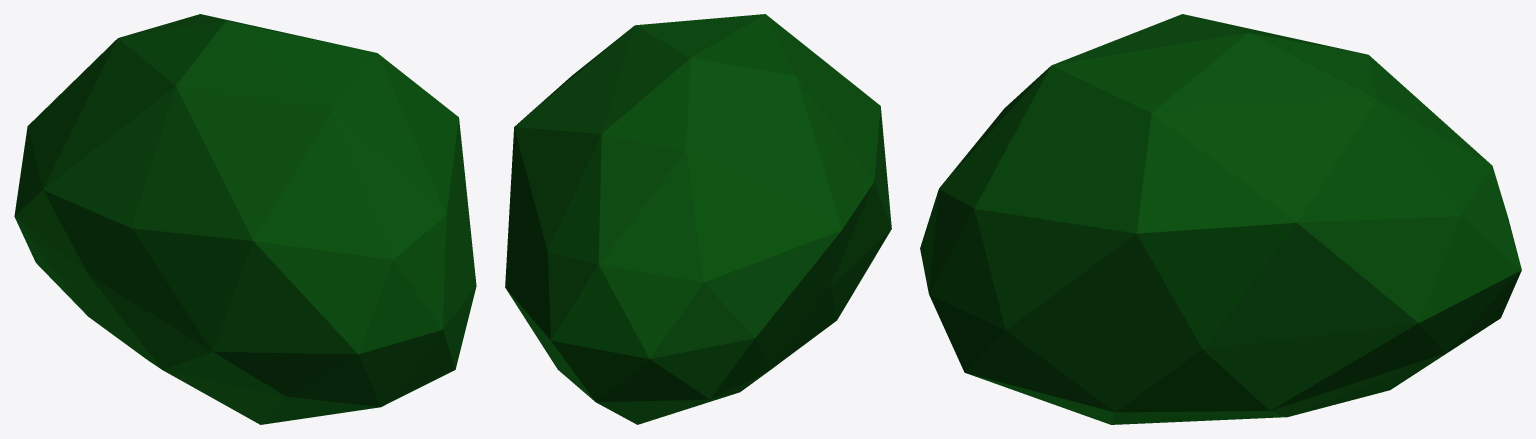
File: bush6.fbx
3 renders of one model, left to right at view 1: azimuth 30°, elevation 25°; view 2: azimuth 150°, elevation 25°; view 3: azimuth 270°, elevation 25°, orthographic. The views are drawn at different scales.
Parts seen in each view (by area): view 1: Cube; view 2: Cube; view 3: Cube.
Part boxes in pixels (x1,y1,x2,y2): Cube: [14, 14, 476, 424]; Cube: [505, 14, 891, 424]; Cube: [920, 14, 1521, 424].
Size of the model in its own units: 240 by 234 by 334.
